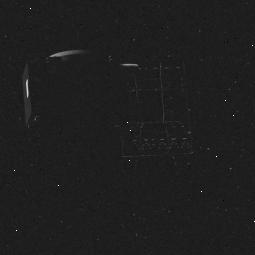proba_3_csc: (16, 47, 196, 165)
